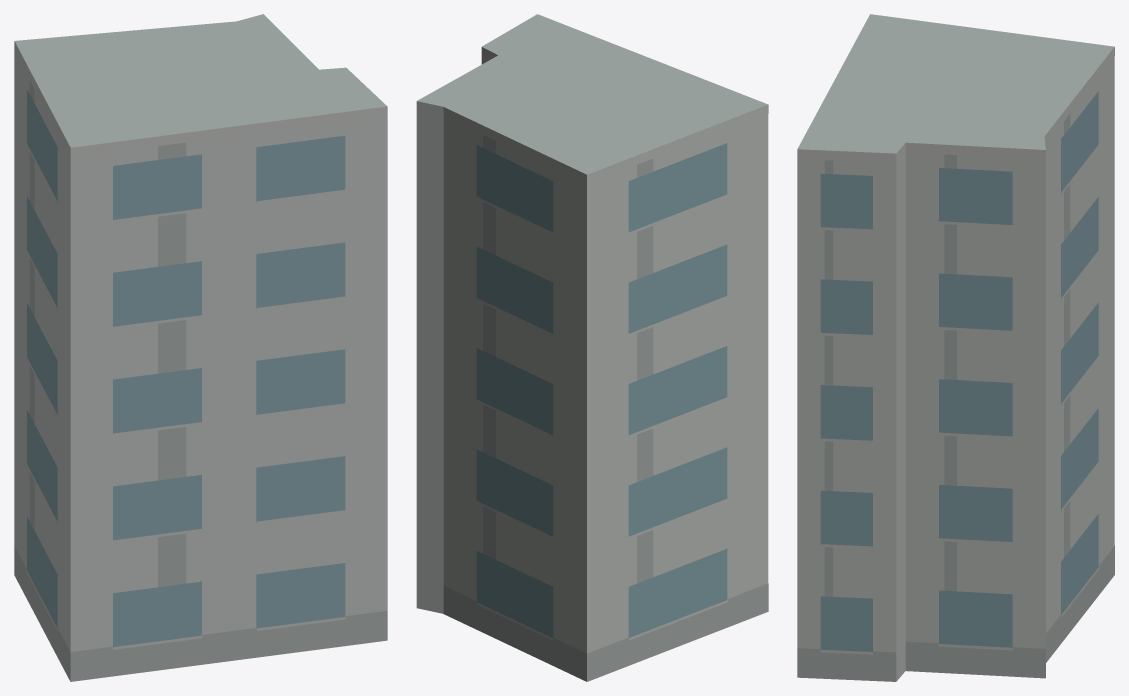
File: survey-upis-32724567.glb
3 views of the same model, side by side, from view 1: azimuth 30°, elevation 25°; view 2: azimuth 150°, elevation 25°; view 3: azimuth 270°, elevation 25° (orthographic). The views are drawn at different scales.
Visible parts, largest first — view 1: survey-upis-32724567.tmp; view 2: survey-upis-32724567.tmp; view 3: survey-upis-32724567.tmp.
Boxes of the visible parts, x1,y1,x2,y2 form: survey-upis-32724567.tmp: [14, 14, 387, 681]; survey-upis-32724567.tmp: [416, 14, 768, 681]; survey-upis-32724567.tmp: [797, 14, 1114, 681].
Bounding box in the file's own units: 7.48 × 13.2 × 7.2.
